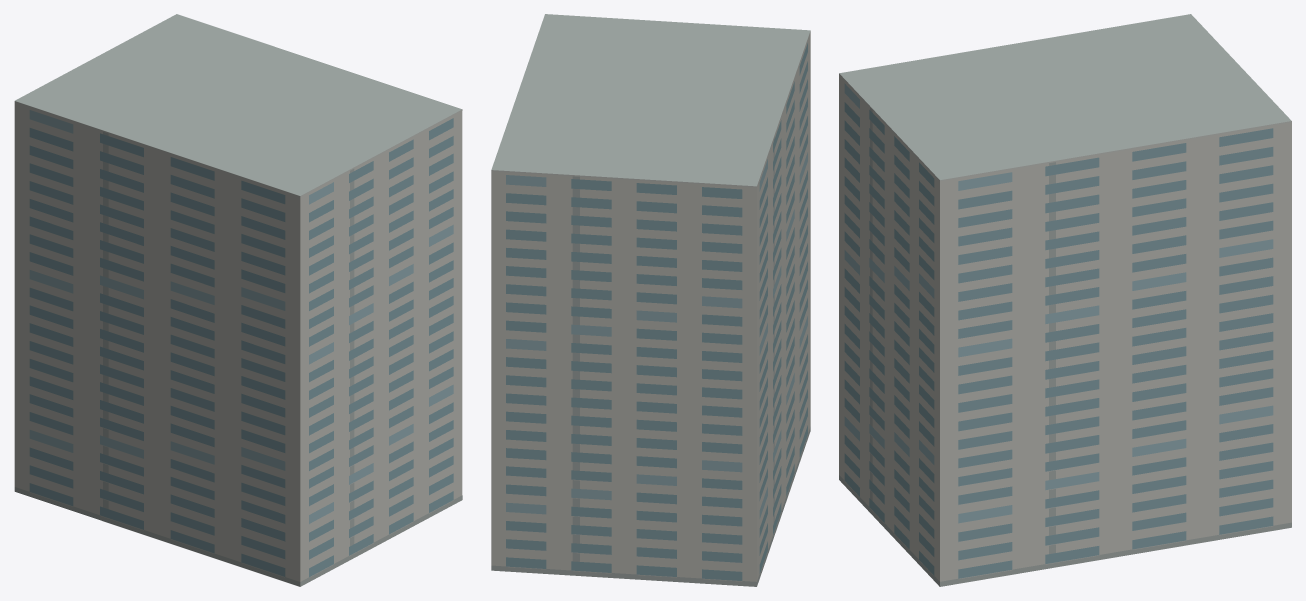
The model's file is residential-5cb0c8ba-c525-474d-a5c7-bdd48d7adf6e.glb.
3 renders of one model, left to right at view 1: azimuth 30°, elevation 25°; view 2: azimuth 150°, elevation 25°; view 3: azimuth 270°, elevation 25°, orthographic. The views are drawn at different scales.
Visible parts, largest first — view 1: residential-5cb0c8ba-c525-474d-a5c7-bdd48d7adf6e.tmp; view 2: residential-5cb0c8ba-c525-474d-a5c7-bdd48d7adf6e.tmp; view 3: residential-5cb0c8ba-c525-474d-a5c7-bdd48d7adf6e.tmp.
Part boxes in pixels (x1=…): residential-5cb0c8ba-c525-474d-a5c7-bdd48d7adf6e.tmp: x1=14, y1=14, x2=462, y2=586; residential-5cb0c8ba-c525-474d-a5c7-bdd48d7adf6e.tmp: x1=491, y1=14, x2=810, y2=586; residential-5cb0c8ba-c525-474d-a5c7-bdd48d7adf6e.tmp: x1=839, y1=14, x2=1291, y2=586.
Size of the model in its own units: 63.99 by 73 by 73.65.
